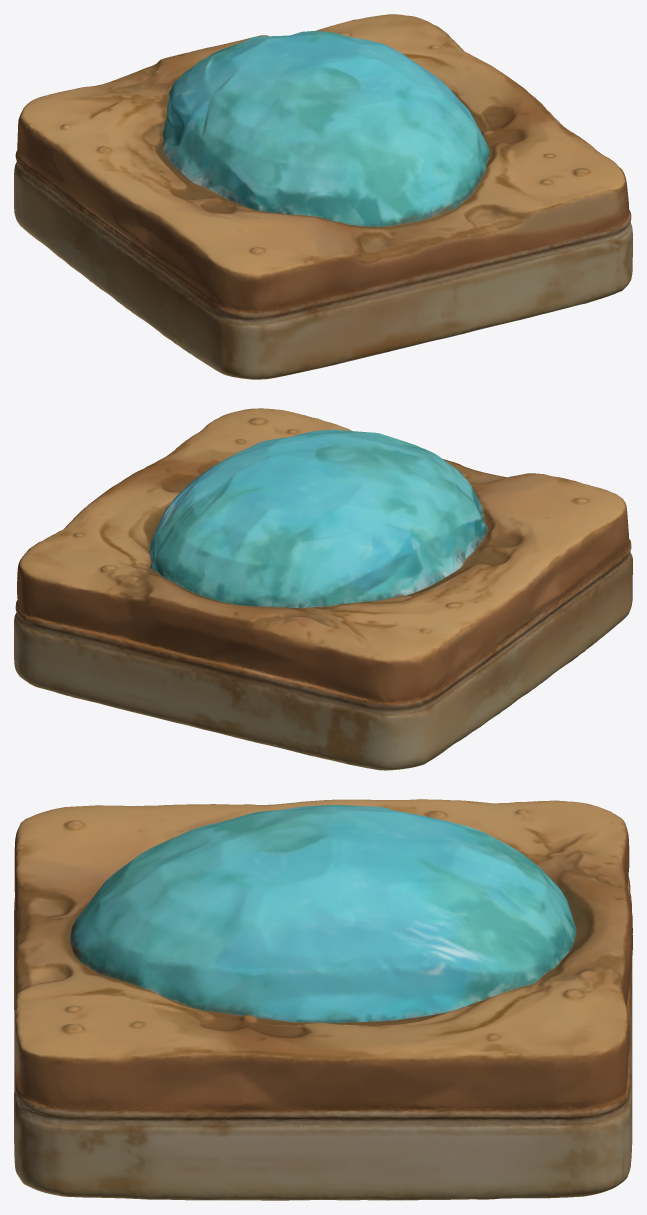
Rendered from grunt-led-3.glb.
3 views of the same model, one above another, from view 1: azimuth 30°, elevation 25°; view 2: azimuth 150°, elevation 25°; view 3: azimuth 270°, elevation 25° (orthographic). The views are drawn at different scales.
Parts seen in each view (by area): view 1: geometry_0; view 2: geometry_0; view 3: geometry_0.
Boxes of the visible parts, x1,y1,x2,y2 form: geometry_0: [14, 14, 632, 379]; geometry_0: [14, 408, 632, 770]; geometry_0: [14, 799, 632, 1200].
Size of the model in its own units: 0.9983 by 0.442 by 0.9955.
1 material, 1 textured.
